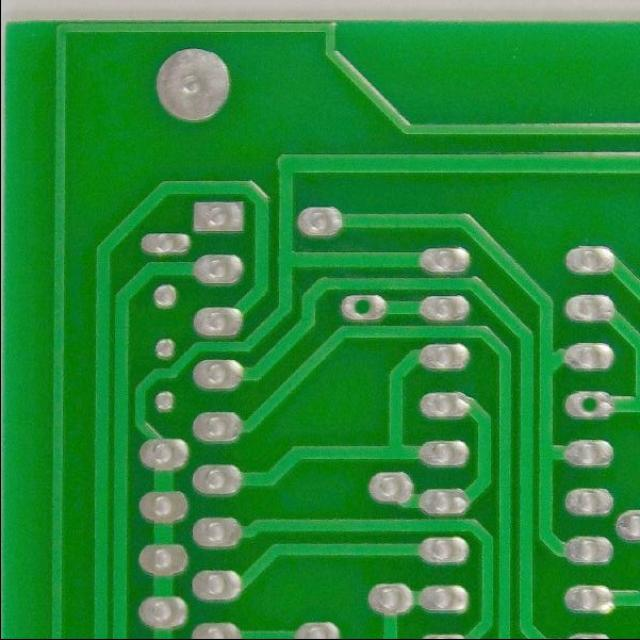missing_hole: (568, 388, 604, 420), (343, 291, 376, 325)
